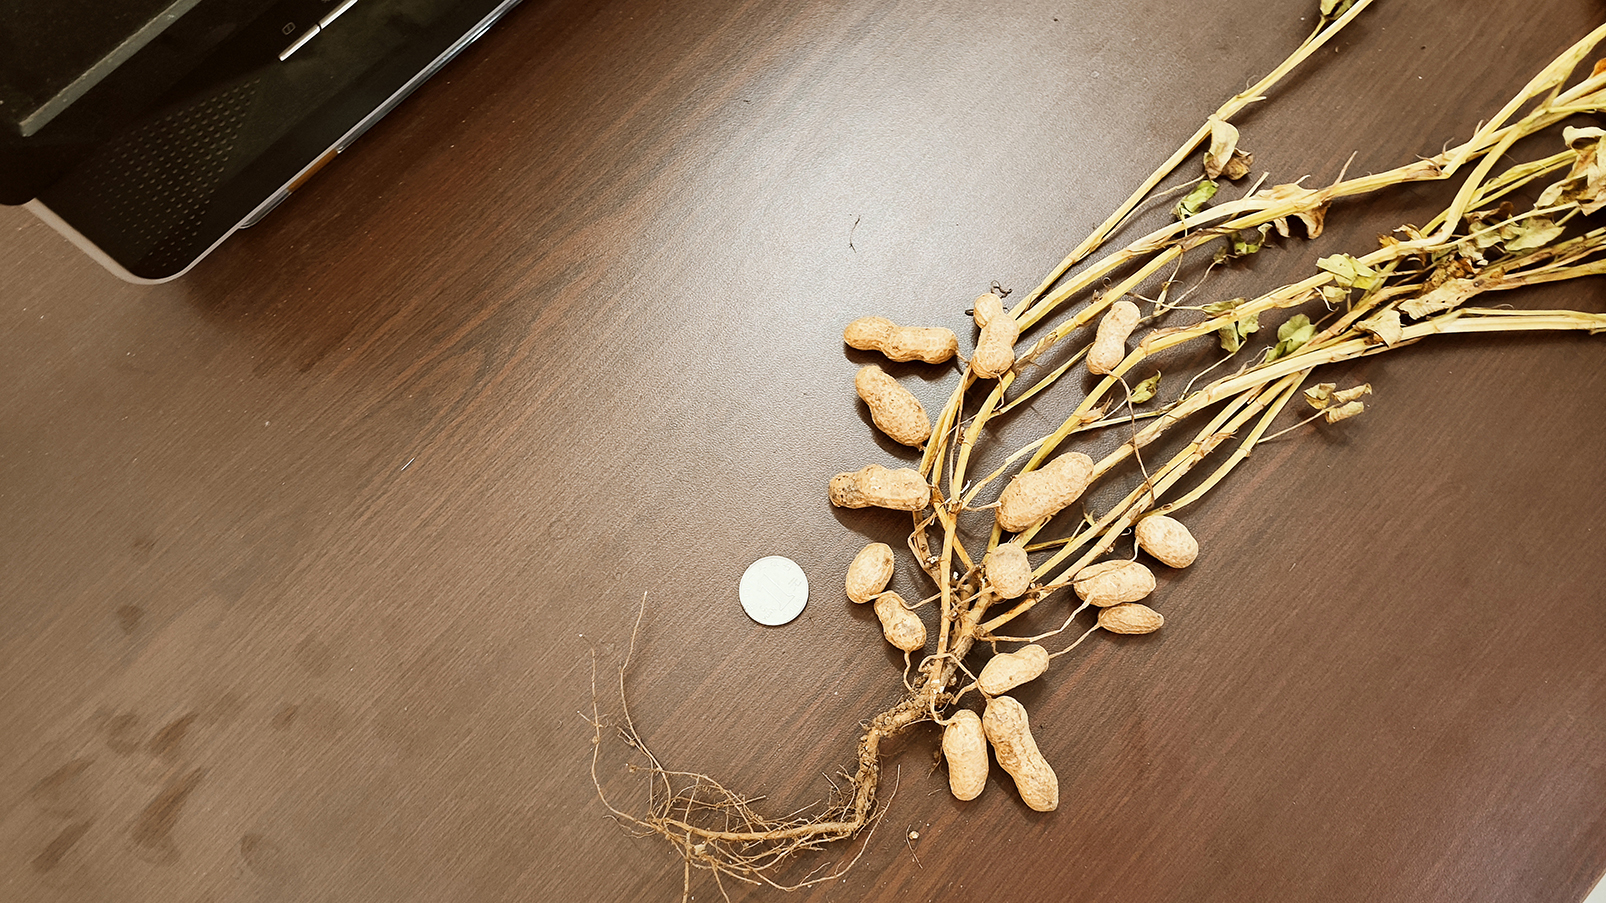h: (985, 696, 1060, 813), (994, 452, 1094, 530), (854, 361, 932, 449), (843, 316, 959, 365), (827, 462, 929, 512), (941, 707, 989, 800), (971, 291, 1018, 378), (1086, 300, 1141, 374), (1074, 559, 1157, 605), (1132, 513, 1199, 569), (978, 644, 1050, 695), (844, 540, 896, 603), (875, 590, 925, 648), (984, 544, 1034, 599), (1096, 604, 1166, 635)
